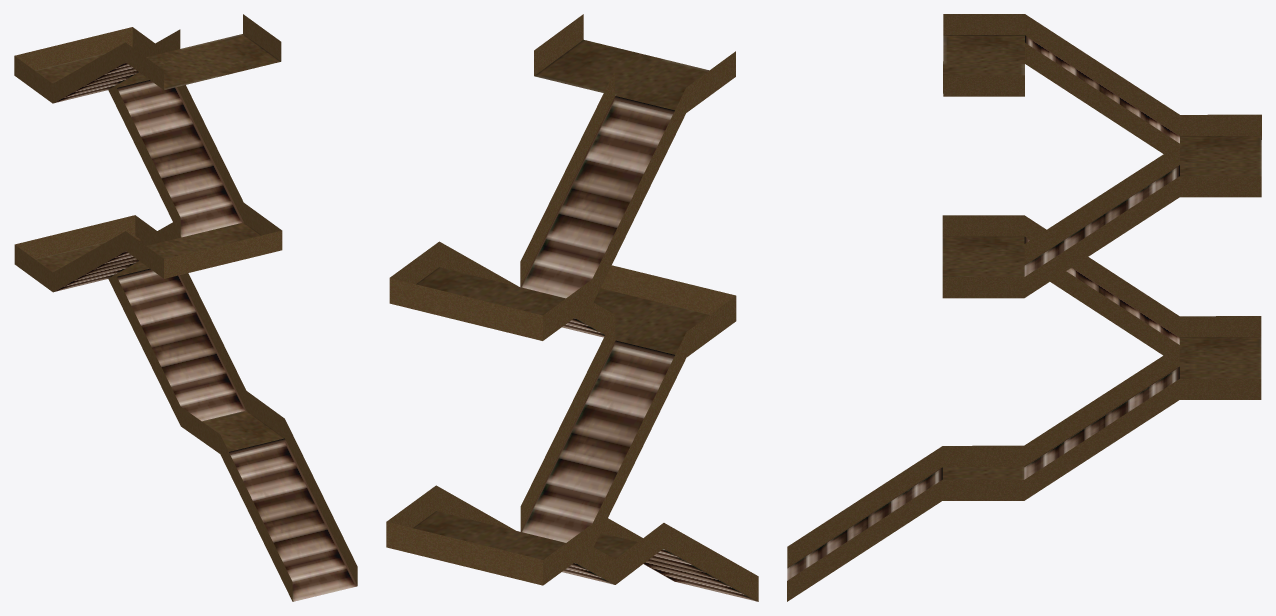
The model's file is steps.glb.
3 views of the same model, side by side, from view 1: azimuth 30°, elevation 25°; view 2: azimuth 150°, elevation 25°; view 3: azimuth 270°, elevation 25° (orthographic). The views are drawn at different scales.
Parts seen in each view (by area): view 1: steps; view 2: steps; view 3: steps.
Boxes of the visible parts, bbox=[...] form: steps: bbox=[14, 14, 357, 601]; steps: bbox=[386, 14, 758, 601]; steps: bbox=[787, 14, 1261, 601].
Size of the model in its own units: 671 by 2609 by 2137.
2 materials, 2 textured.
